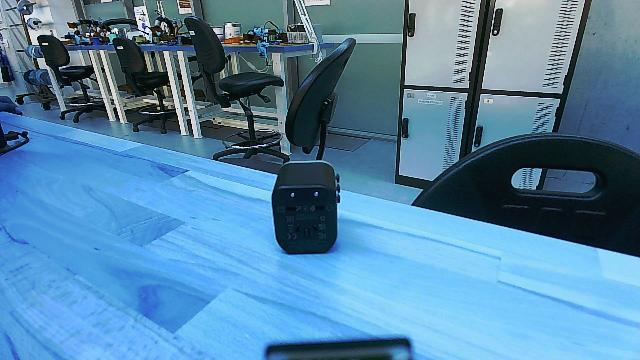adapter: (273, 158, 343, 256)
